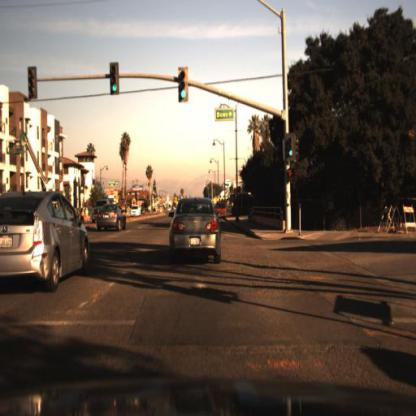car: (2, 189, 92, 292), (159, 186, 223, 280), (93, 199, 136, 241), (98, 201, 128, 233), (89, 196, 106, 224), (131, 205, 142, 220)
trafficLight: (24, 59, 42, 108), (106, 59, 121, 99), (178, 68, 188, 104)
trafficLight-Green: (281, 132, 299, 172), (109, 59, 120, 93), (286, 131, 296, 167)
